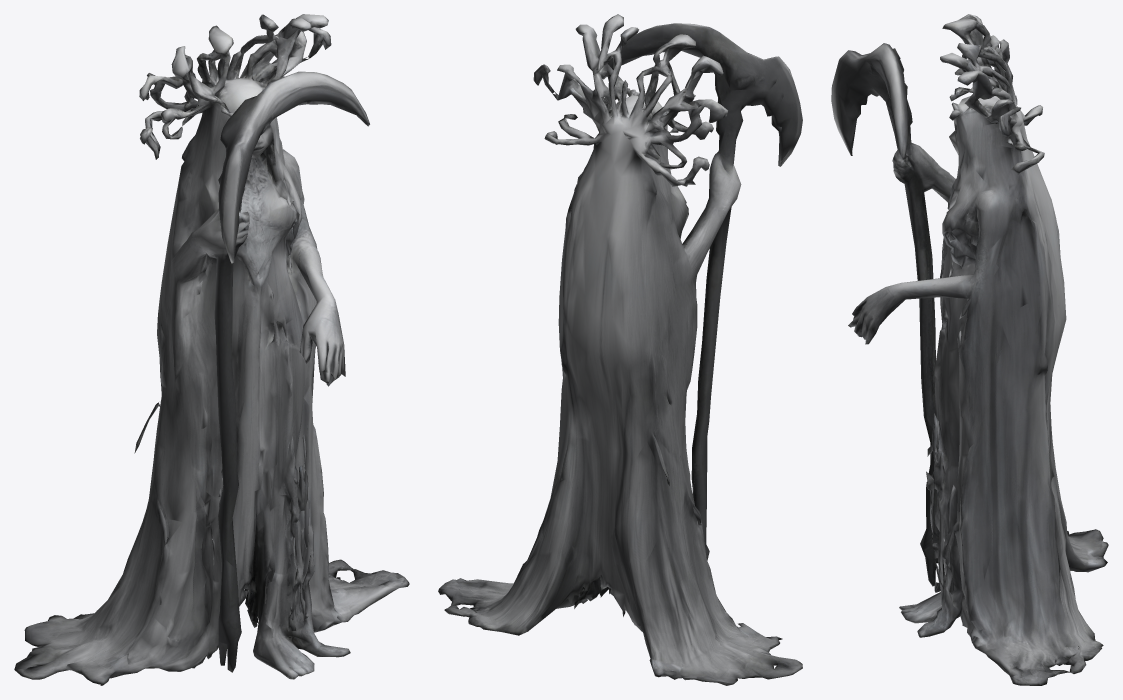
Rendered from Queen.fbx.
3 views of the same model, side by side, from view 1: azimuth 30°, elevation 25°; view 2: azimuth 150°, elevation 25°; view 3: azimuth 270°, elevation 25° (orthographic). The views are drawn at different scales.
Visible parts, largest first — view 1: Mesh_0; view 2: Mesh_0; view 3: Mesh_0.
Boxes of the visible parts, <box> form: Mesh_0: <box>14,14,409,685</box>; Mesh_0: <box>438,14,802,685</box>; Mesh_0: <box>831,14,1108,685</box>.
Bounding box in the file's own units: 128 × 200 × 87.64.
1 material, 1 textured.
